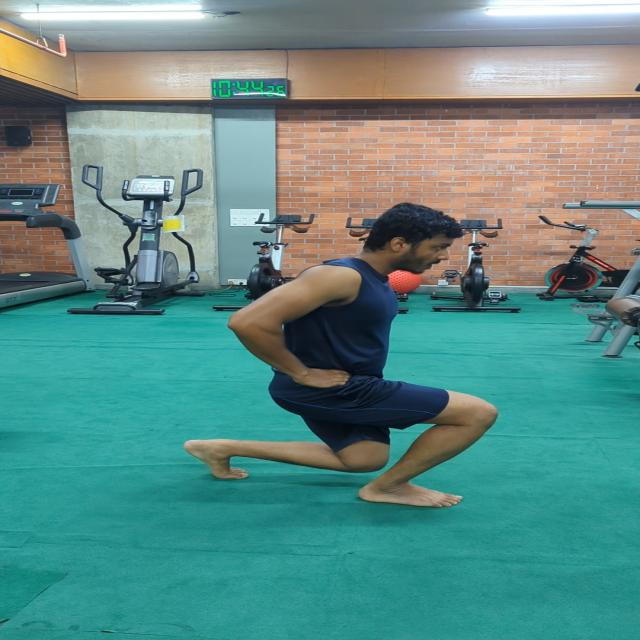Normal_Lunges: (176, 199, 507, 517)
